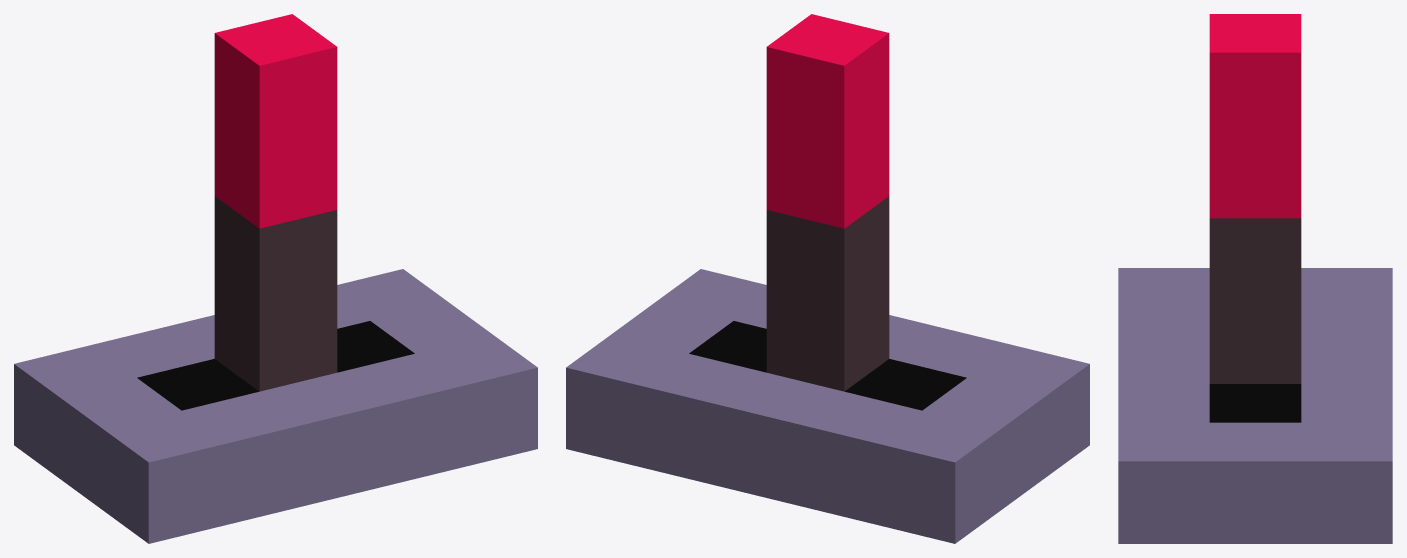
File: lever_a_b_red_off.obj
3 renders of one model, left to right at view 1: azimuth 30°, elevation 25°; view 2: azimuth 150°, elevation 25°; view 3: azimuth 270°, elevation 25°, orthographic.
Bounding box in the file's own units: 0.5 × 0.5 × 0.3.
1 material, 1 textured.
